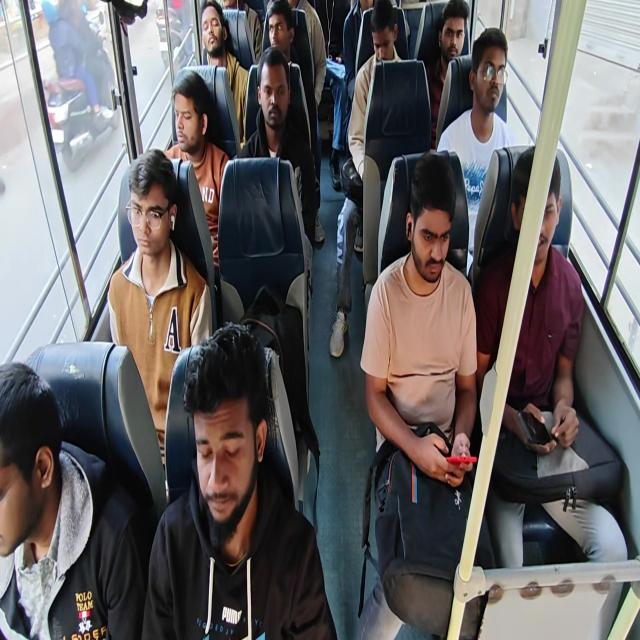person: (176, 318, 270, 616), (400, 157, 485, 467), (514, 165, 602, 382), (0, 367, 66, 640), (122, 165, 188, 305), (470, 43, 517, 159), (166, 70, 225, 158), (296, 0, 353, 73), (255, 50, 293, 136), (440, 13, 474, 90), (198, 4, 227, 66), (372, 6, 399, 64), (258, 0, 287, 47), (222, 0, 255, 33), (352, 0, 382, 20)
